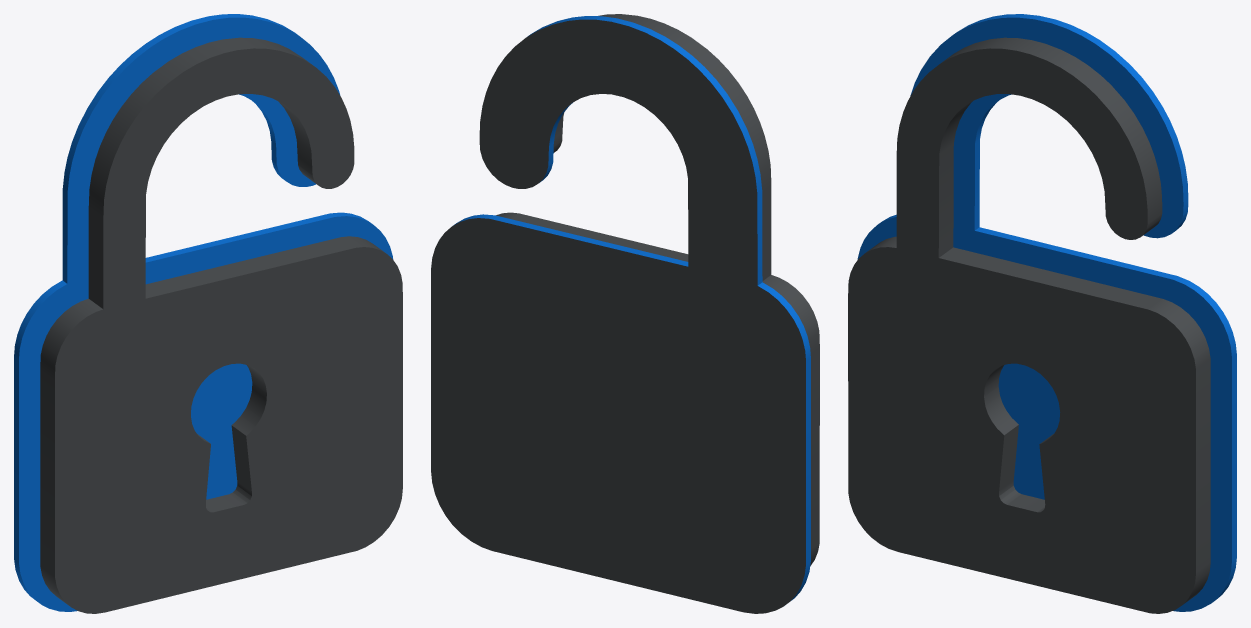
The model's file is status-icon-fbbbb6.glb.
3 views of the same model, side by side, from view 1: azimuth 30°, elevation 25°; view 2: azimuth 150°, elevation 25°; view 3: azimuth 330°, elevation 25° (orthographic).
Visible parts, largest first — view 1: icon; view 2: icon; view 3: icon.
Boxes of the visible parts, bbox=[...] form: icon: bbox=[14, 14, 402, 613]; icon: bbox=[431, 14, 819, 613]; icon: bbox=[848, 14, 1236, 613].
Size of the model in its own units: 0.0444 by 0.0632 by 0.0056.
